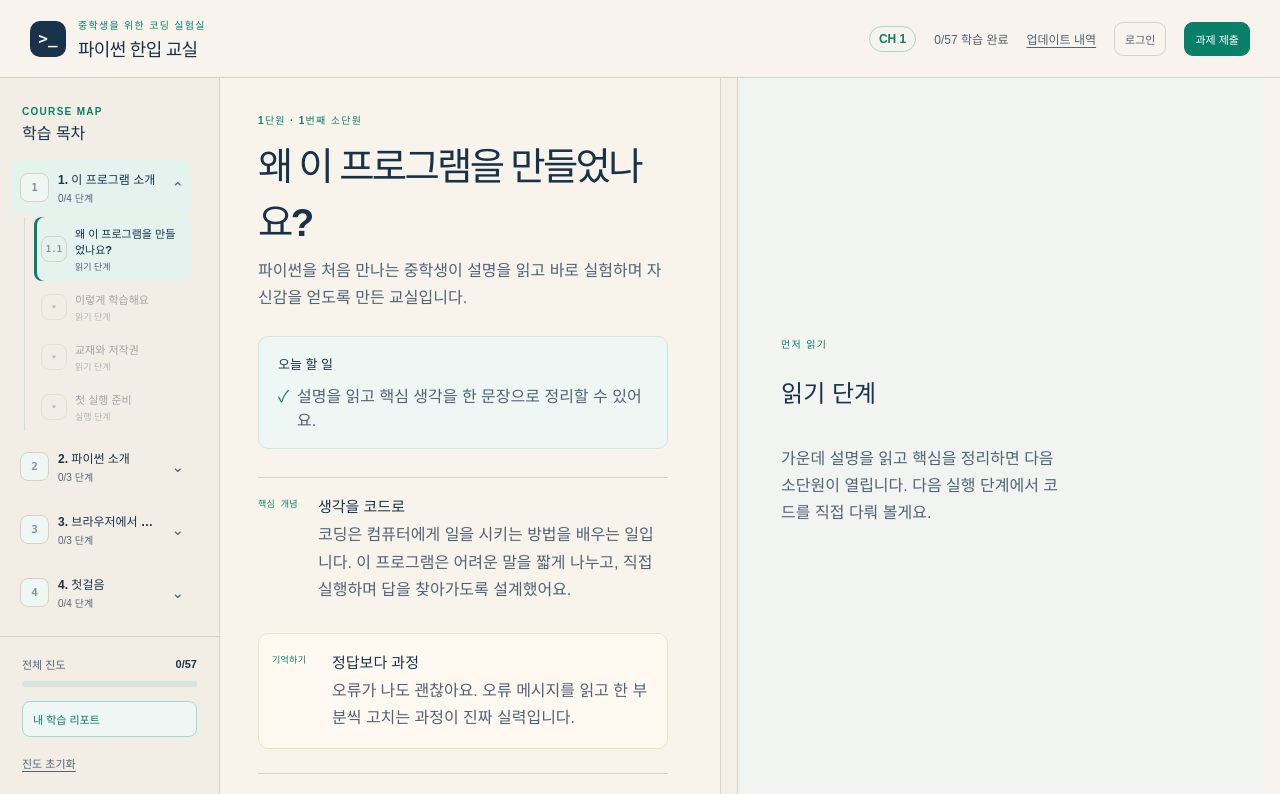
it: App profile and submission boundary › clears the report return intent when registration is cancelled
The image size is (1280, 794).
Click the button "내 학습 리포트". click: [110, 719]
box: [22, 701, 197, 737]
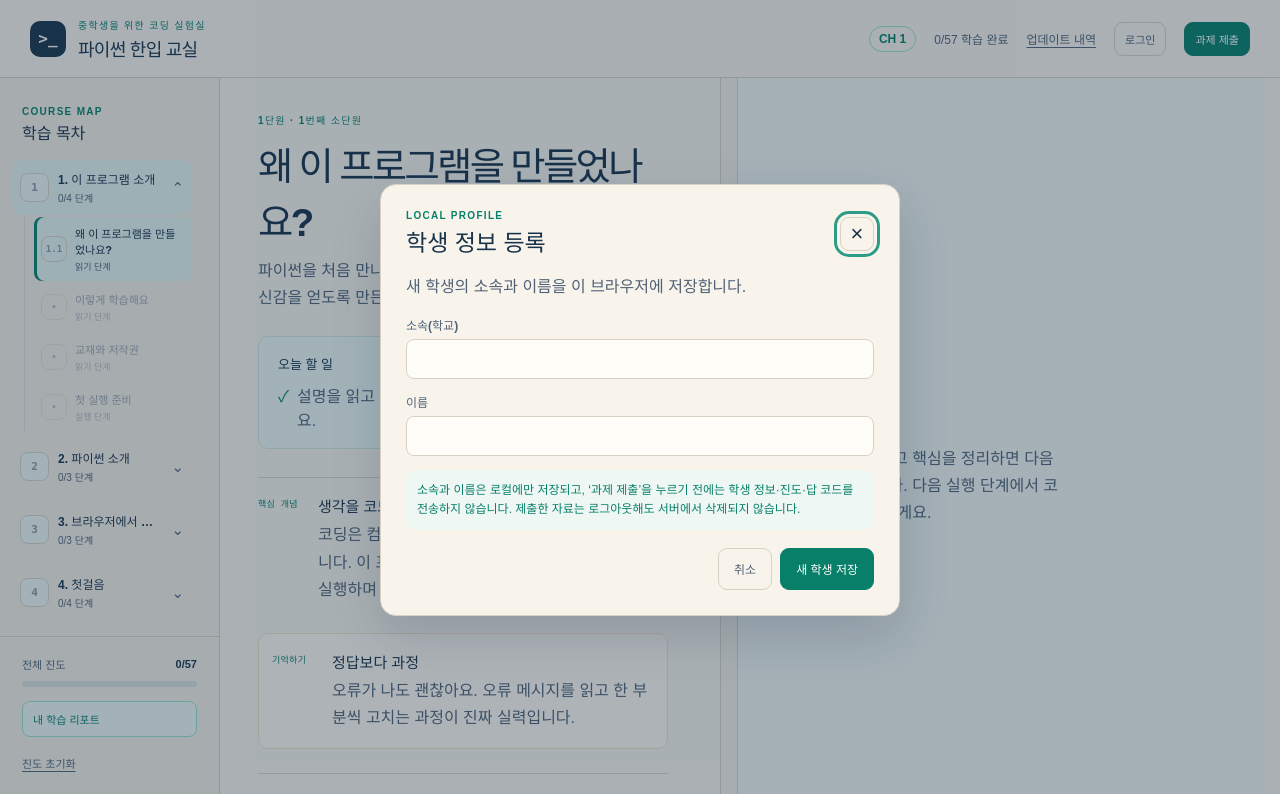
expect the heading "학생 정보 등록" is shown: met, box [406, 224, 546, 258]
Click the button "취소". click: [745, 569]
box: [718, 548, 772, 590]
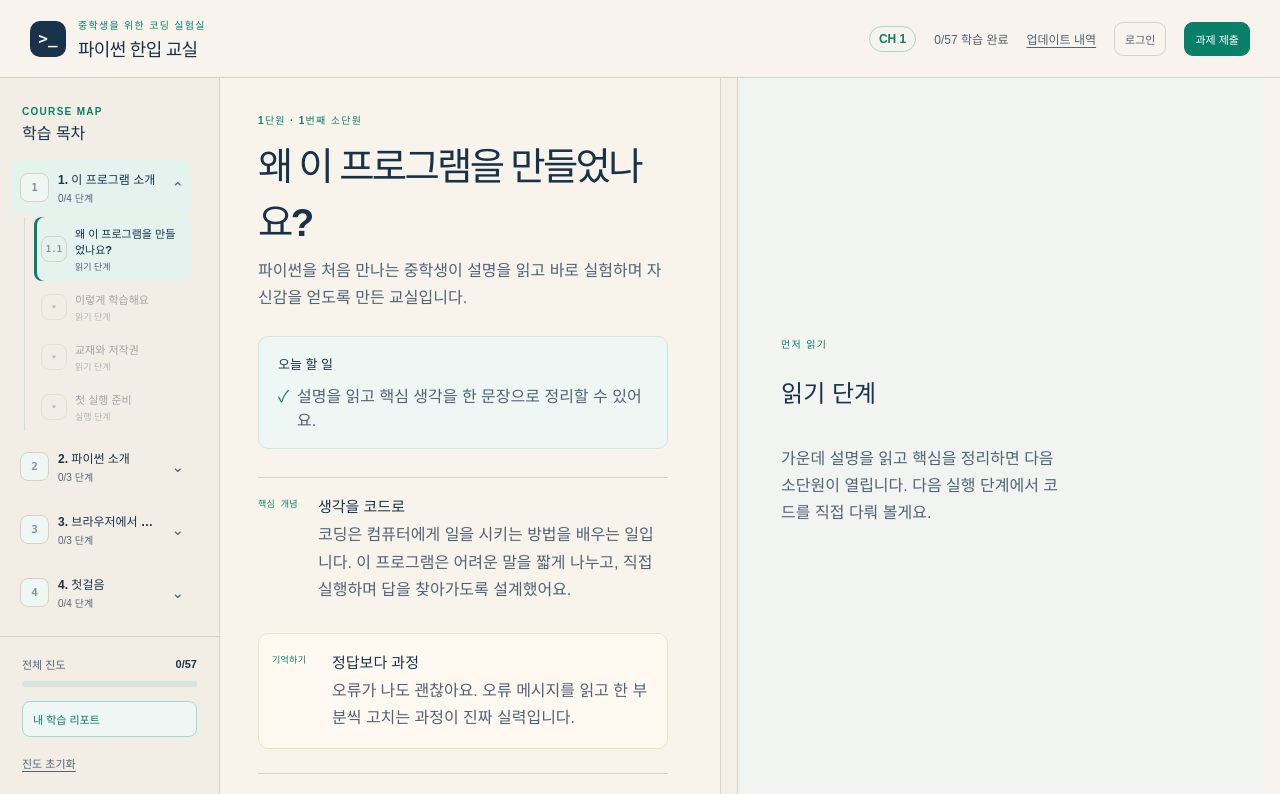
Click the button "로그인". click: [1140, 38]
box: [1114, 22, 1166, 56]
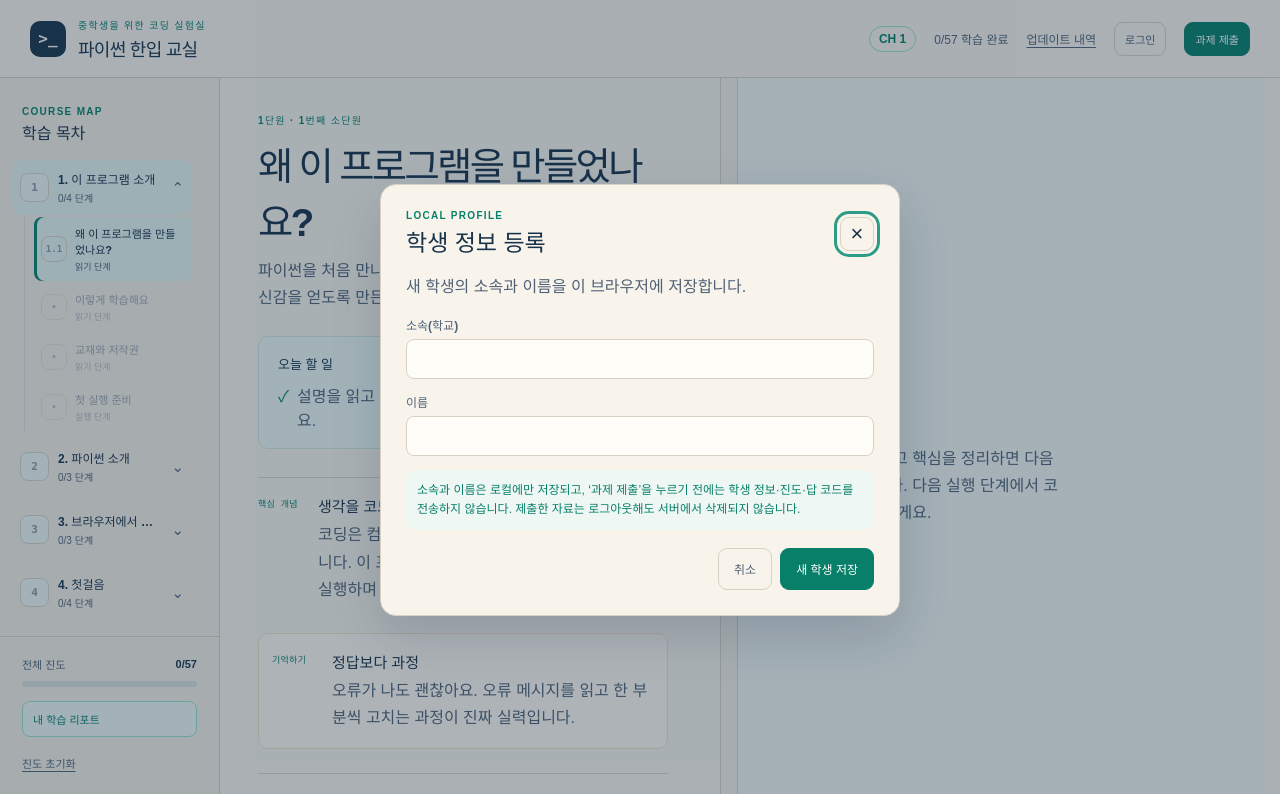
expect the heading "학생 정보 등록" is shown: met, box [406, 224, 546, 258]
